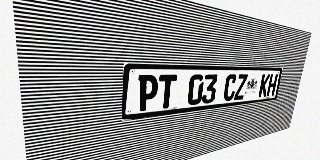0: (187, 74, 205, 106)
3: (201, 74, 218, 104)
C: (223, 74, 238, 101)
H: (266, 74, 278, 96)
K: (258, 74, 270, 97)
P: (137, 75, 159, 112)
T: (157, 75, 177, 109)
Z: (234, 74, 248, 100)
